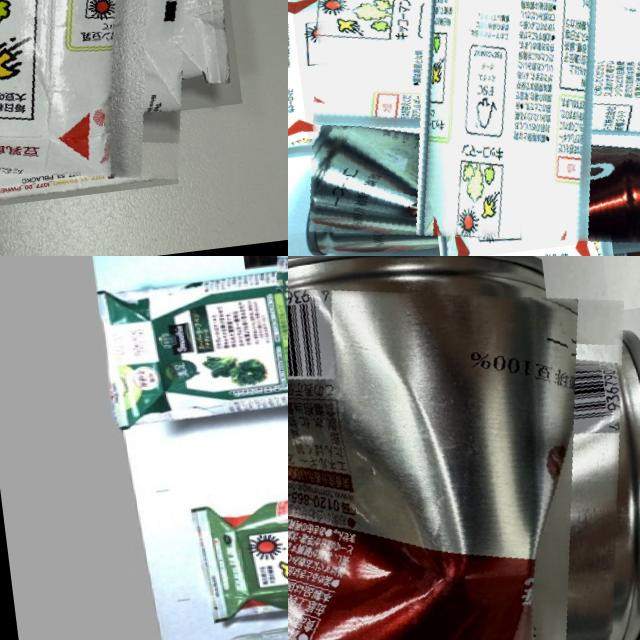Aluminium Foil: (288, 0, 640, 256), (0, 0, 226, 214), (94, 256, 288, 431), (188, 468, 288, 622)
Can: (288, 256, 640, 640), (308, 114, 640, 256)
